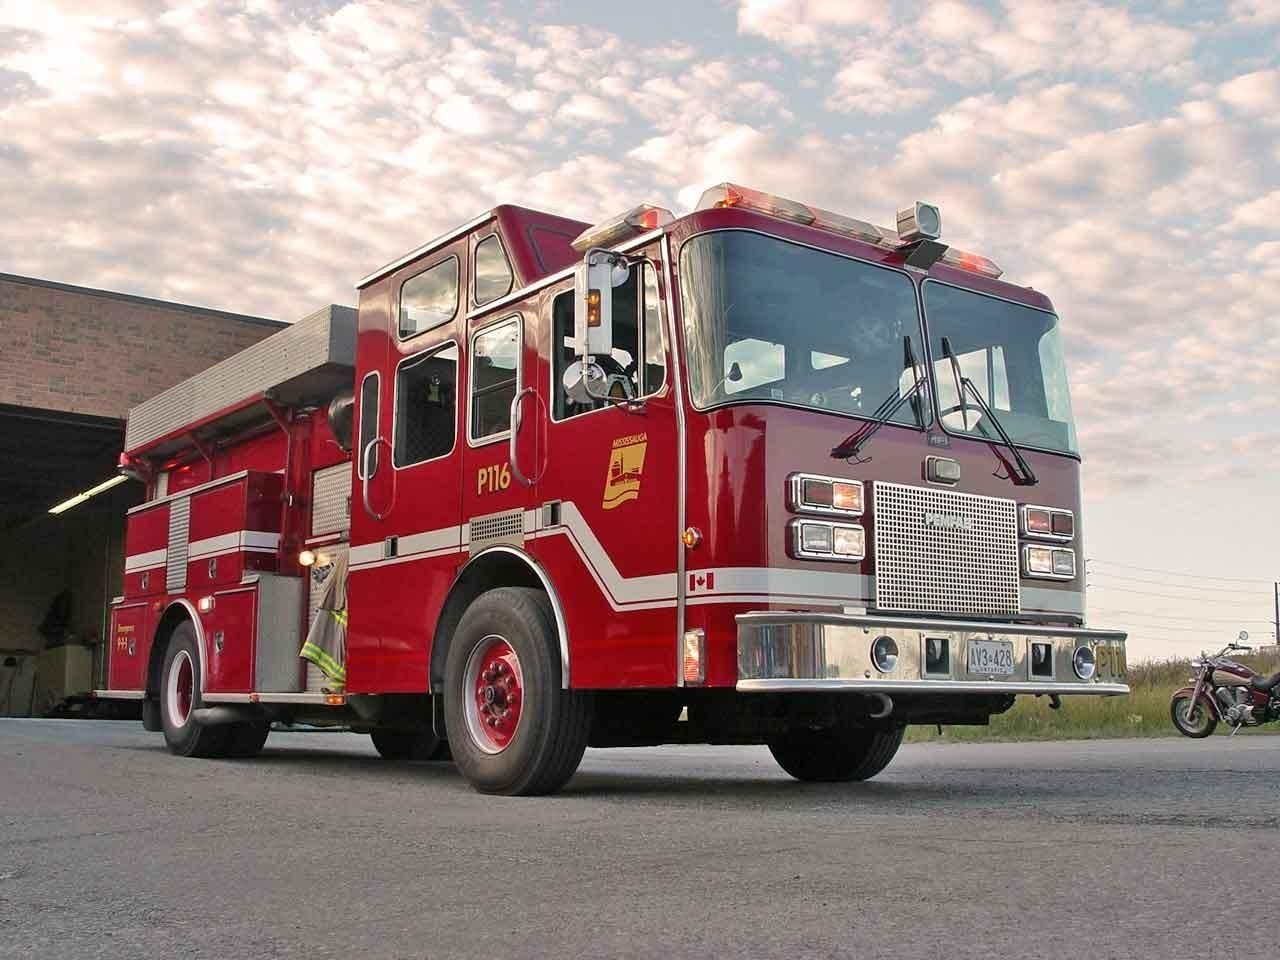special: (107, 179, 1132, 806)
